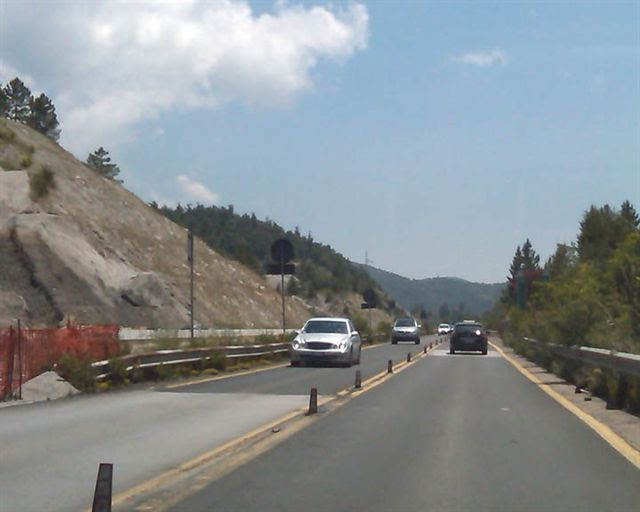car: (288, 309, 367, 375), (438, 316, 480, 355)
